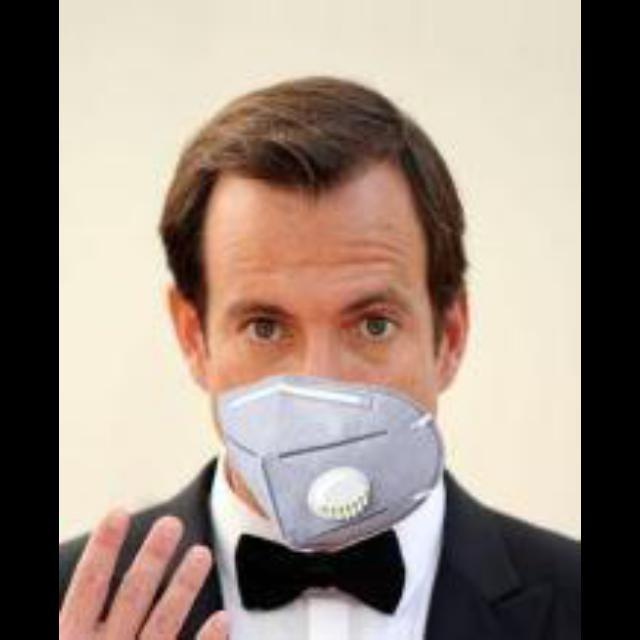suspicion: (172, 124, 450, 536)
